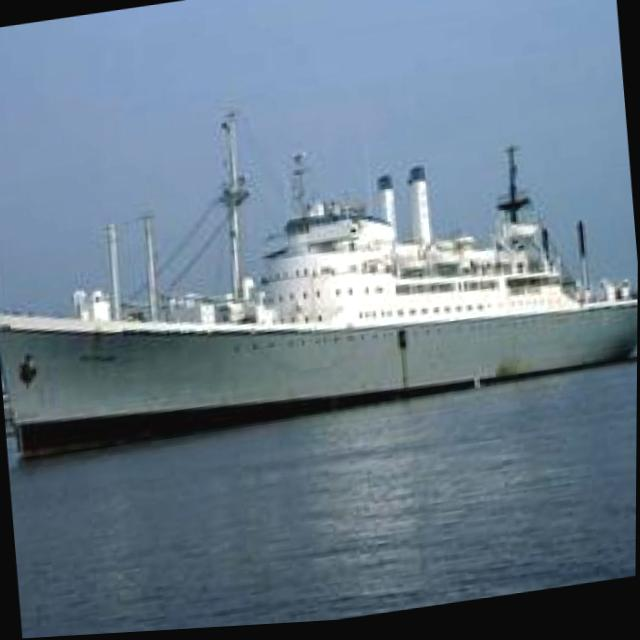ship2: (0, 113, 638, 466)
